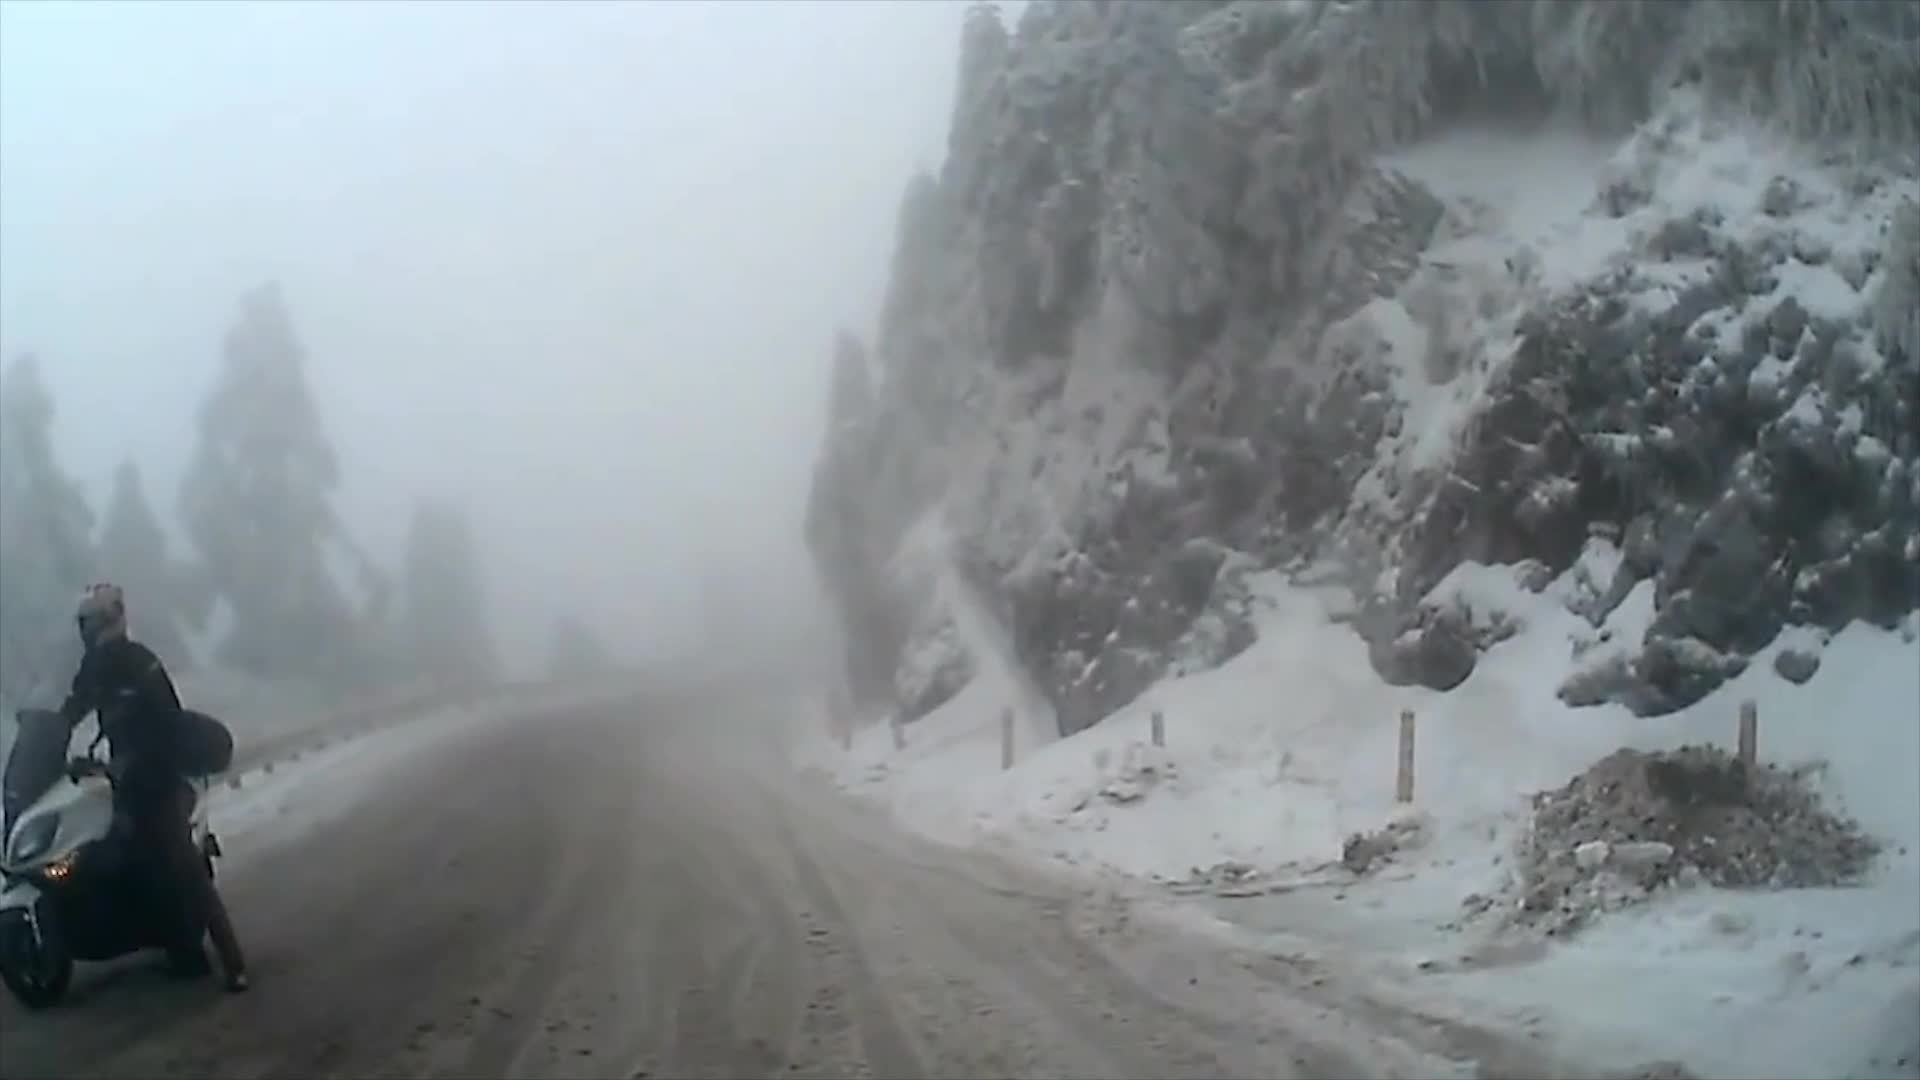pedestrian: (32, 577, 246, 986)
